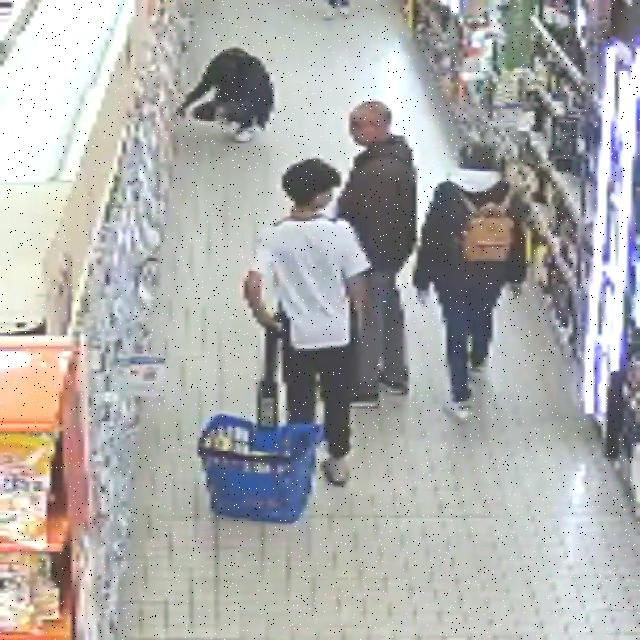bags: (461, 194, 514, 262)
hands: (267, 318, 283, 335), (356, 310, 365, 334), (417, 289, 428, 305), (510, 284, 522, 298), (177, 106, 186, 117)
person: (245, 159, 369, 485), (414, 144, 528, 420), (338, 102, 417, 407), (179, 48, 274, 142)
